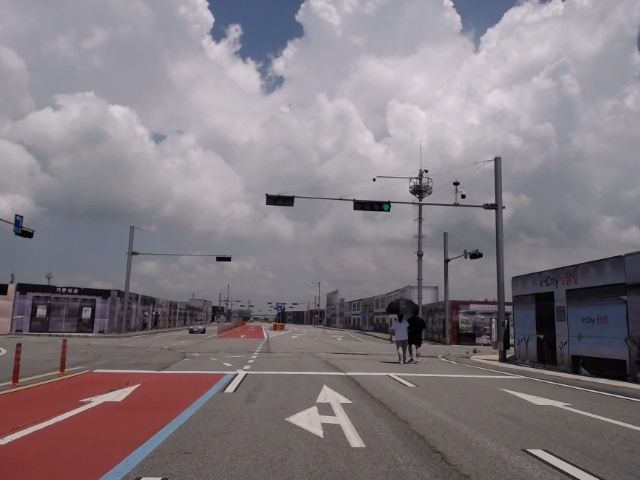straight_green_4: (354, 201, 392, 212)
